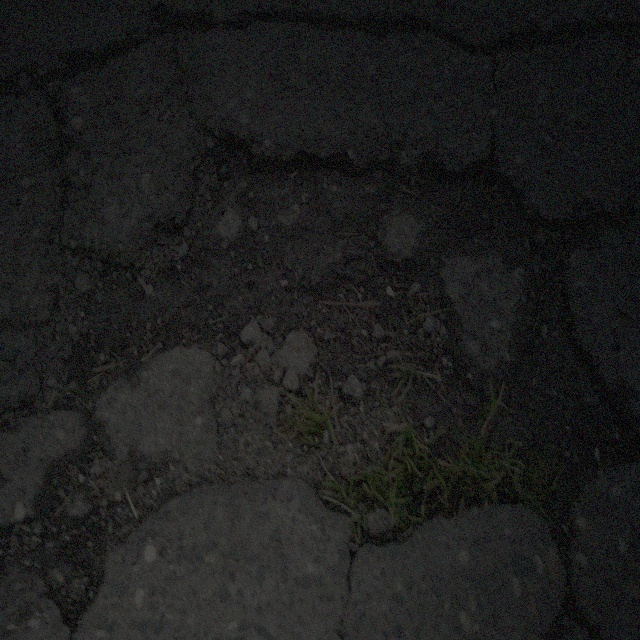pothole: (100, 122, 621, 552)
